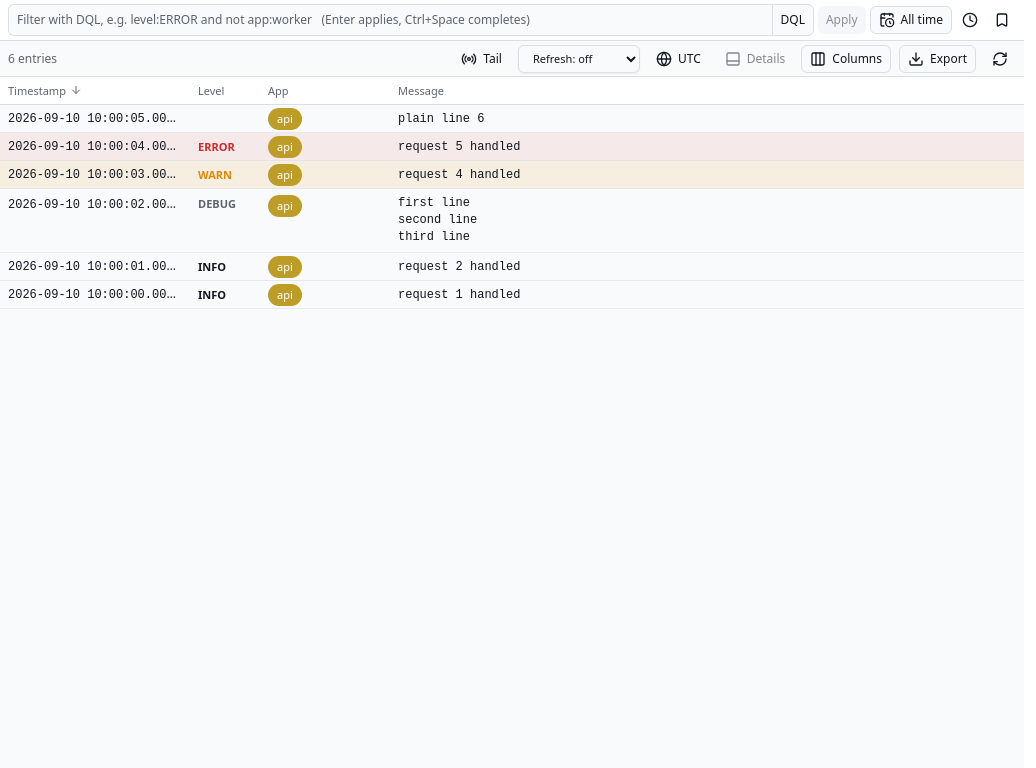
row selection and detail panel › shows a plain, read-only JSON view on its own tab, separate from Table
Click the row "2026-09-10 10:00:04.000 Z ERROR api request 5 handled" at (512, 147), box [0,133,1024,161]
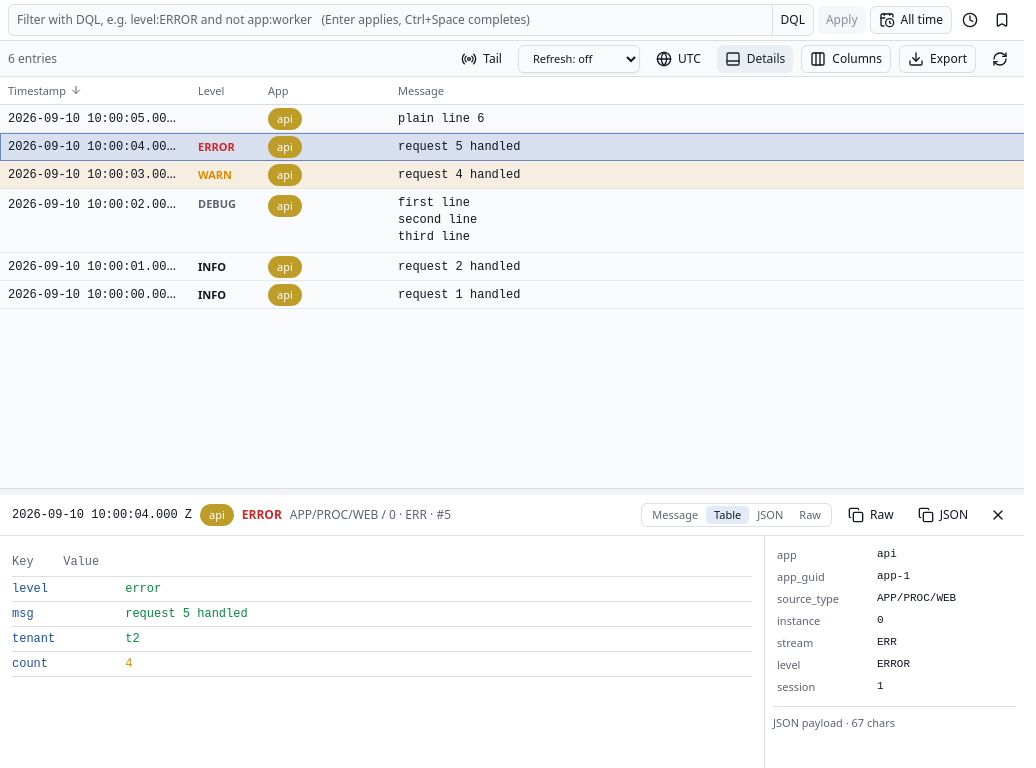
Check: the table that starts with "Key" is shown, box [12,548,752,677]
Click the tab "JSON" at (770, 515), box [749,506,791,524]
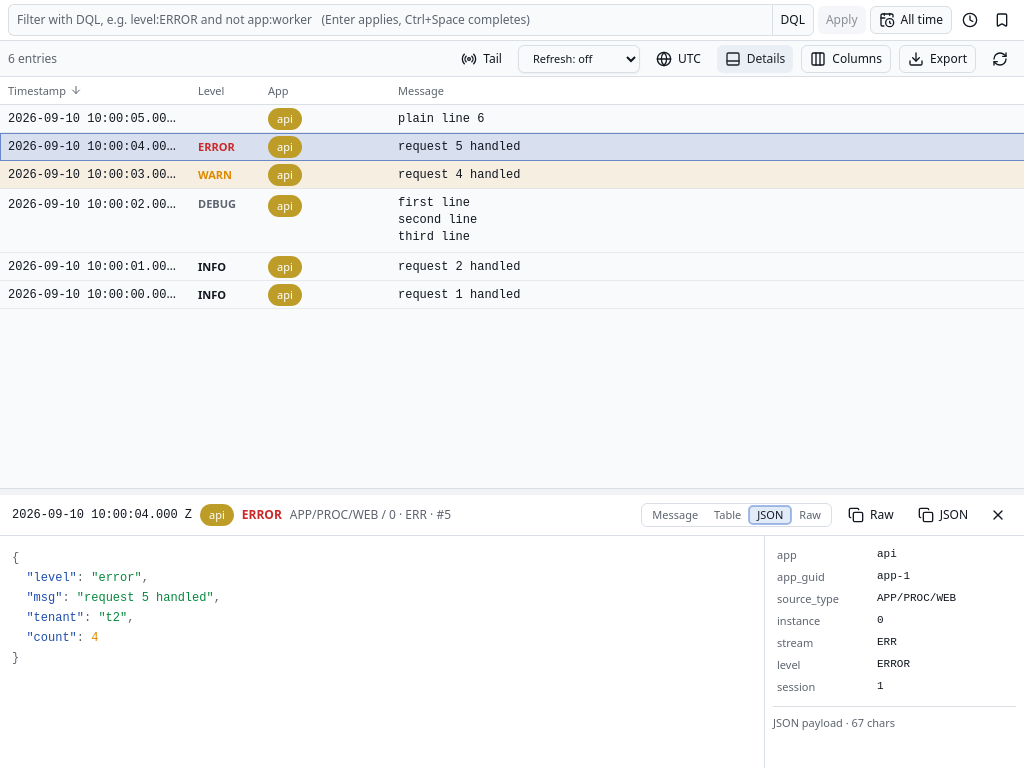
Check: the table "level error msg request 5 handled tenant t2 count 4" is gone
Check: the panel shows "\"tenant\": \"t2\"", box [12,551,221,665]
# Table remains a separate tab with the flattened, filterable view.
Click the tab "Table" at (728, 515), box [706,506,749,524]
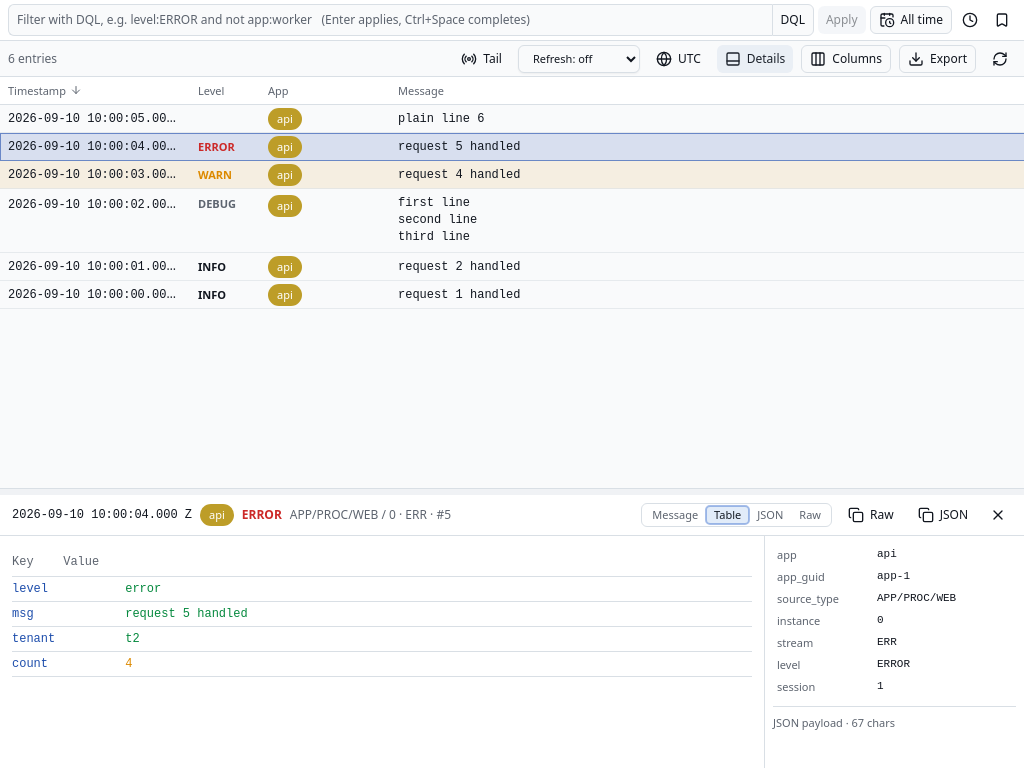
Check: the table that starts with "Key" is shown, box [12,548,752,677]
